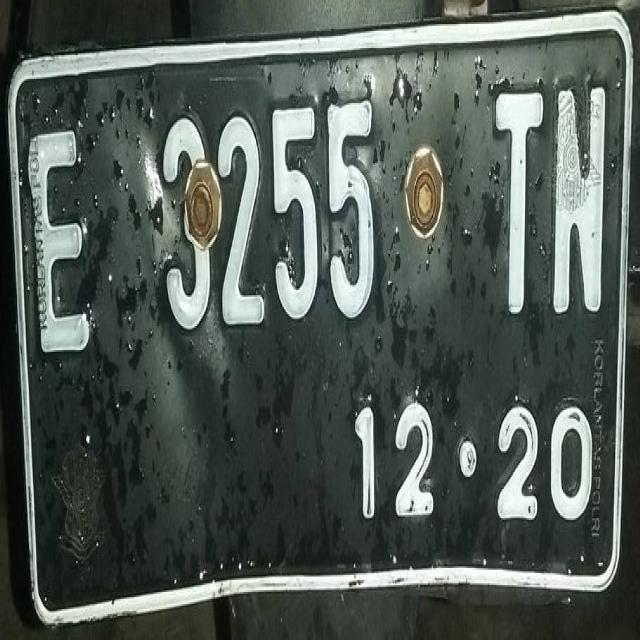plate: (6, 31, 626, 599)
